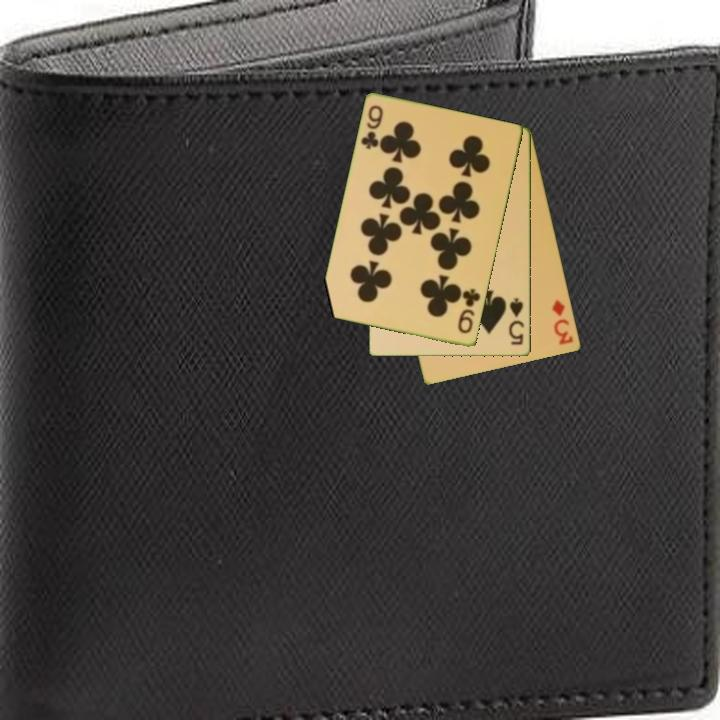3d: (549, 296, 576, 348)
5s: (506, 295, 527, 348)
9c: (454, 285, 483, 337), (358, 102, 386, 153)
